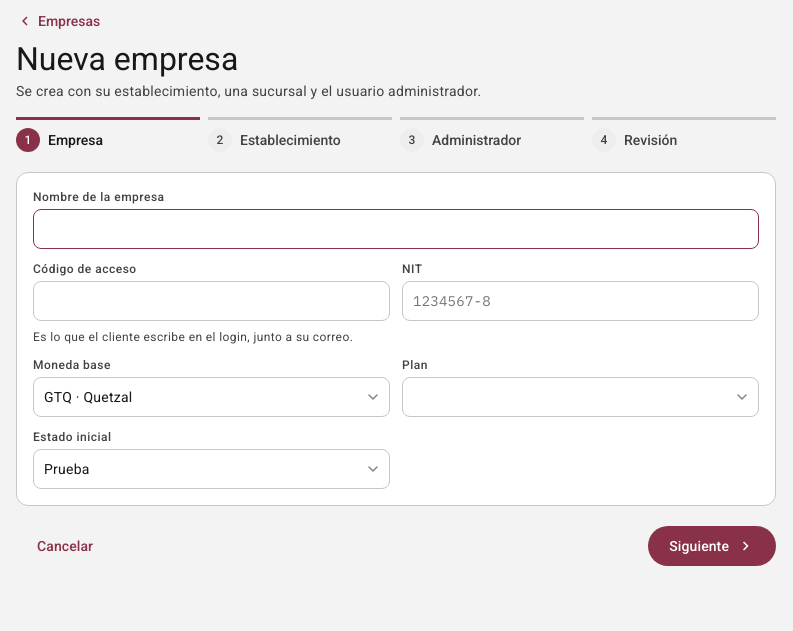
Test: alta guiada de empresa › no avanza si faltan datos del paso
The width and height of the screenshot is (793, 631).
Click the button "Siguiente" at (712, 546), box [648, 526, 776, 566]
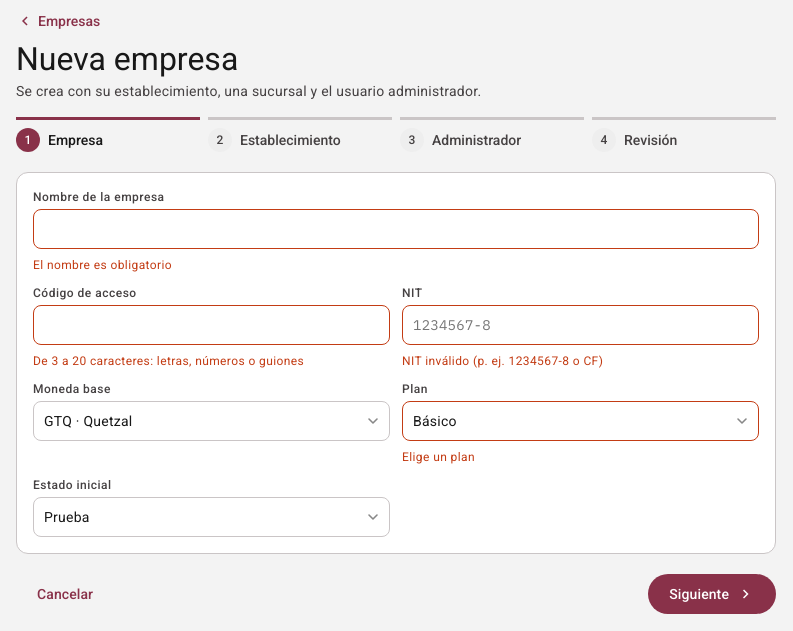
Check: the list item "Empresa" is shown, box [16, 117, 200, 152]
Check: the text "El nombre es obligatorio" is shown, box [33, 258, 172, 272]
